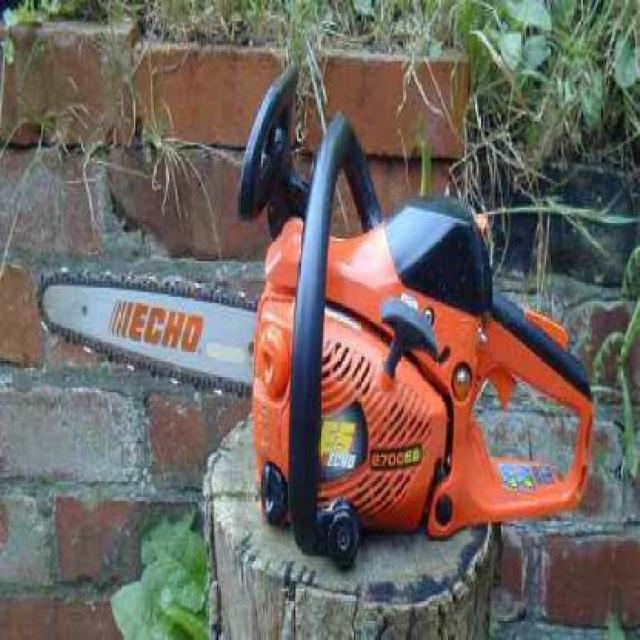Chainsaw: (34, 57, 597, 571)
